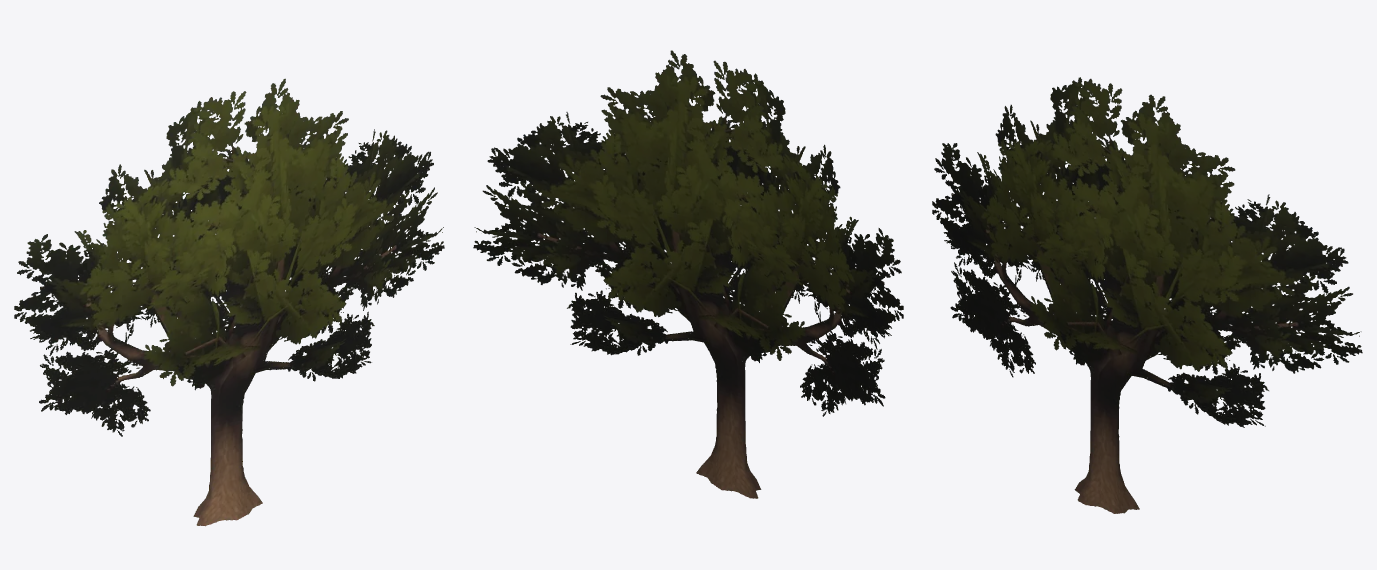
The picture shows the model from 3 angles, left to right: view 1: azimuth 30°, elevation 25°; view 2: azimuth 150°, elevation 25°; view 3: azimuth 330°, elevation 25°; orthographic projection.
Parts seen in each view (by area): view 1: body0_model0_lod0_mesh0; view 2: body0_model0_lod0_mesh0; view 3: body0_model0_lod0_mesh0.
Boxes of the visible parts, x1=… form: body0_model0_lod0_mesh0: x1=14, y1=78, x2=444, y2=526; body0_model0_lod0_mesh0: x1=473, y1=50, x2=903, y2=498; body0_model0_lod0_mesh0: x1=932, y1=77, x2=1362, y2=513.
Size of the model in its own units: 42.94 by 41.63 by 3.65.
1 material, 1 textured.
